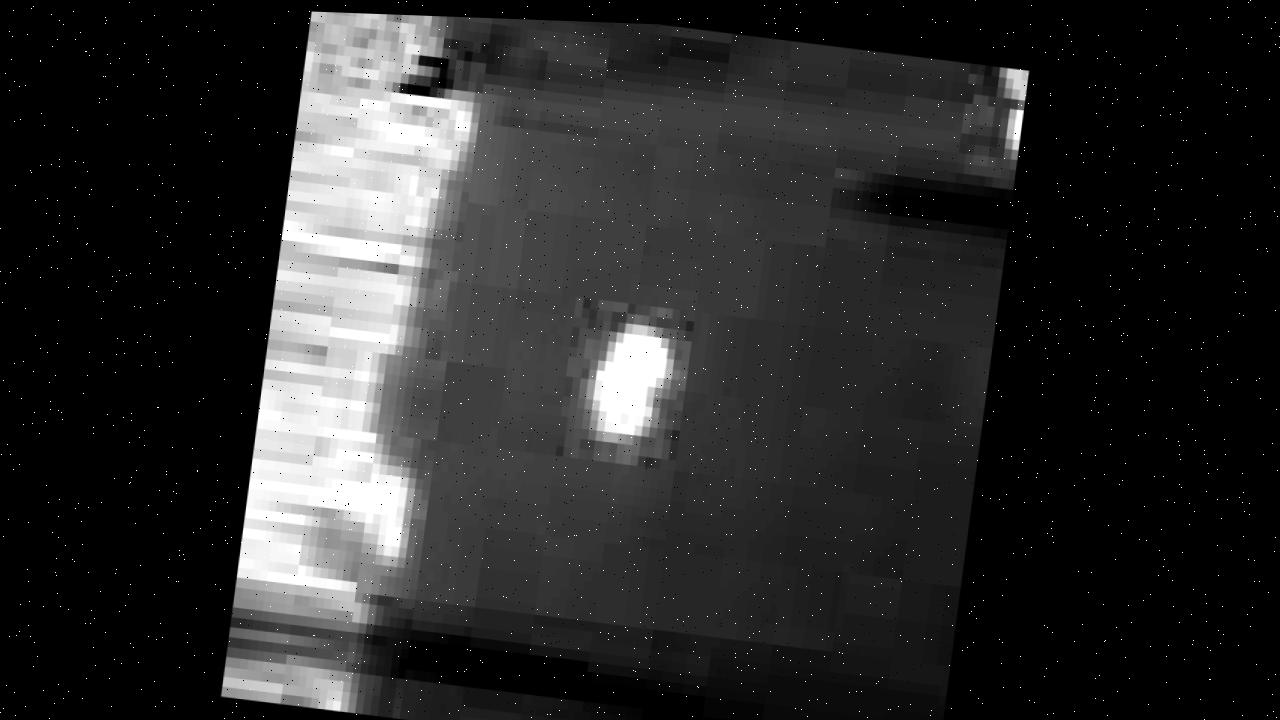drinks Stains: (225, 7, 1030, 720)
